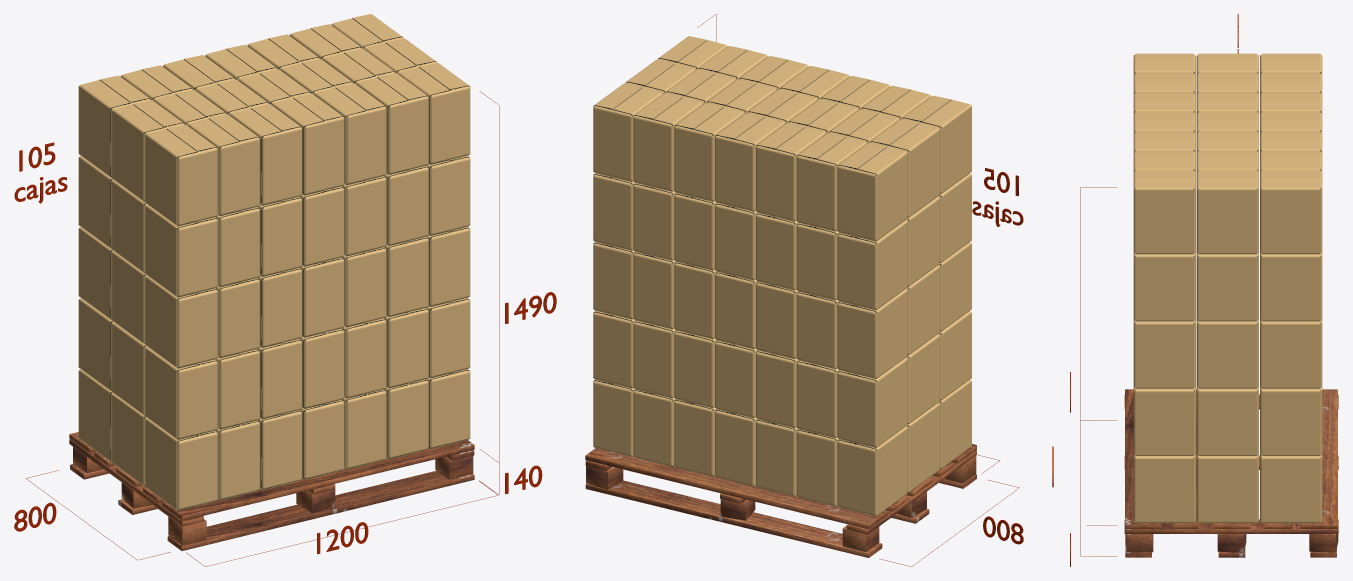
Rendered from ZUKAN.glb.
3 views of the same model, side by side, from view 1: azimuth 30°, elevation 25°; view 2: azimuth 150°, elevation 25°; view 3: azimuth 270°, elevation 25° (orthographic). The views are drawn at different scales.
Visible parts, largest first — view 1: PALE.001, TQ_ARD-node.086, TQ_ARD-node.023, TQ_ARD-node.065, TQ_ARD-node.044, TQ_ARD-node.002, TQ_ARD-node.095, TQ_ARD-node.101, TQ_ARD-node.098, TQ_ARD-node.089, TQ_ARD-node.104, TQ_ARD-node.092 (+47 smaller); view 2: PALE.001, TQ_ARD-node.084, TQ_ARD-node.021, TQ_ARD-node.063, TQ_ARD-node.042, TQ_ARD-node, TQ_ARD-node.099, TQ_ARD-node.087, TQ_ARD-node.090, TQ_ARD-node.093, TQ_ARD-node.096, TQ_ARD-node.102 (+47 smaller); view 3: PALE.001, TQ_ARD-node.104, TQ_ARD-node.102, TQ_ARD-node.103, TQ_ARD-node.041, TQ_ARD-node.061, TQ_ARD-node.039, TQ_ARD-node.040, TQ_ARD-node.083, TQ_ARD-node.020, TQ_ARD-node.062, TQ_ARD-node.081 (+23 smaller).
Part boxes in pixels (x1,y1,x2,y2): PALE.001: (69, 432, 474, 550); TQ_ARD-node.086: (145, 124, 217, 226); TQ_ARD-node.023: (145, 347, 217, 439); TQ_ARD-node.065: (145, 205, 217, 297); TQ_ARD-node.044: (145, 276, 217, 368); TQ_ARD-node.002: (145, 418, 217, 510); TQ_ARD-node.095: (272, 93, 344, 195); TQ_ARD-node.101: (356, 73, 428, 174); TQ_ARD-node.098: (314, 83, 386, 185); TQ_ARD-node.089: (187, 114, 259, 216); TQ_ARD-node.104: (398, 63, 470, 164); TQ_ARD-node.092: (229, 104, 301, 205); PALE.001: (585, 444, 976, 557); TQ_ARD-node.084: (837, 143, 907, 241); TQ_ARD-node.021: (837, 358, 907, 447); TQ_ARD-node.063: (837, 220, 907, 310); TQ_ARD-node.042: (837, 289, 907, 378); TQ_ARD-node: (837, 426, 907, 516); TQ_ARD-node.099: (633, 93, 703, 191); TQ_ARD-node.087: (796, 133, 866, 231); TQ_ARD-node.090: (756, 123, 825, 221); TQ_ARD-node.093: (715, 113, 784, 211); TQ_ARD-node.096: (674, 103, 743, 201); TQ_ARD-node.102: (593, 83, 662, 181); PALE.001: (1124, 389, 1338, 557); TQ_ARD-node.104: (1133, 170, 1195, 254); TQ_ARD-node.102: (1260, 170, 1322, 254); TQ_ARD-node.103: (1196, 170, 1258, 254); TQ_ARD-node.041: (1133, 386, 1195, 455); TQ_ARD-node.061: (1196, 319, 1258, 388); TQ_ARD-node.039: (1260, 386, 1322, 455); TQ_ARD-node.040: (1196, 387, 1258, 455); TQ_ARD-node.083: (1133, 251, 1195, 321); TQ_ARD-node.020: (1133, 453, 1195, 523); TQ_ARD-node.062: (1133, 319, 1195, 388); TQ_ARD-node.081: (1260, 252, 1322, 321).
Bounding box in the file's own units: 1.85 × 1.53 × 1.07.
Materials: 5 (2 with a texture image).
